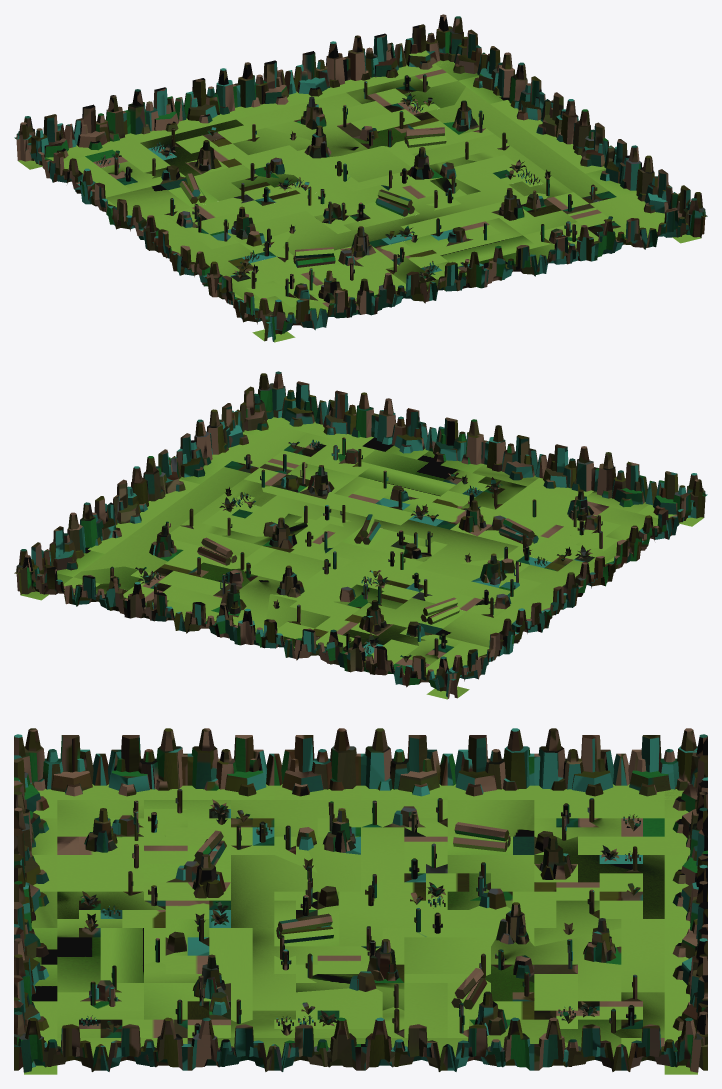
The model's file is western_tiles_bake.gltf.
The picture shows the model from 3 angles, top to bottom: view 1: azimuth 30°, elevation 25°; view 2: azimuth 150°, elevation 25°; view 3: azimuth 270°, elevation 25°; orthographic projection. The views are drawn at different scales.
Parts seen in each view (by area): view 1: Plane.141; view 2: Plane.141; view 3: Plane.141.
Part boxes in pixels (x1,y1,x2,y2): Plane.141: [14, 14, 707, 342]; Plane.141: [14, 371, 707, 699]; Plane.141: [14, 728, 707, 1074].
Bounding box in the file's own units: 16 × 1.36 × 16.
